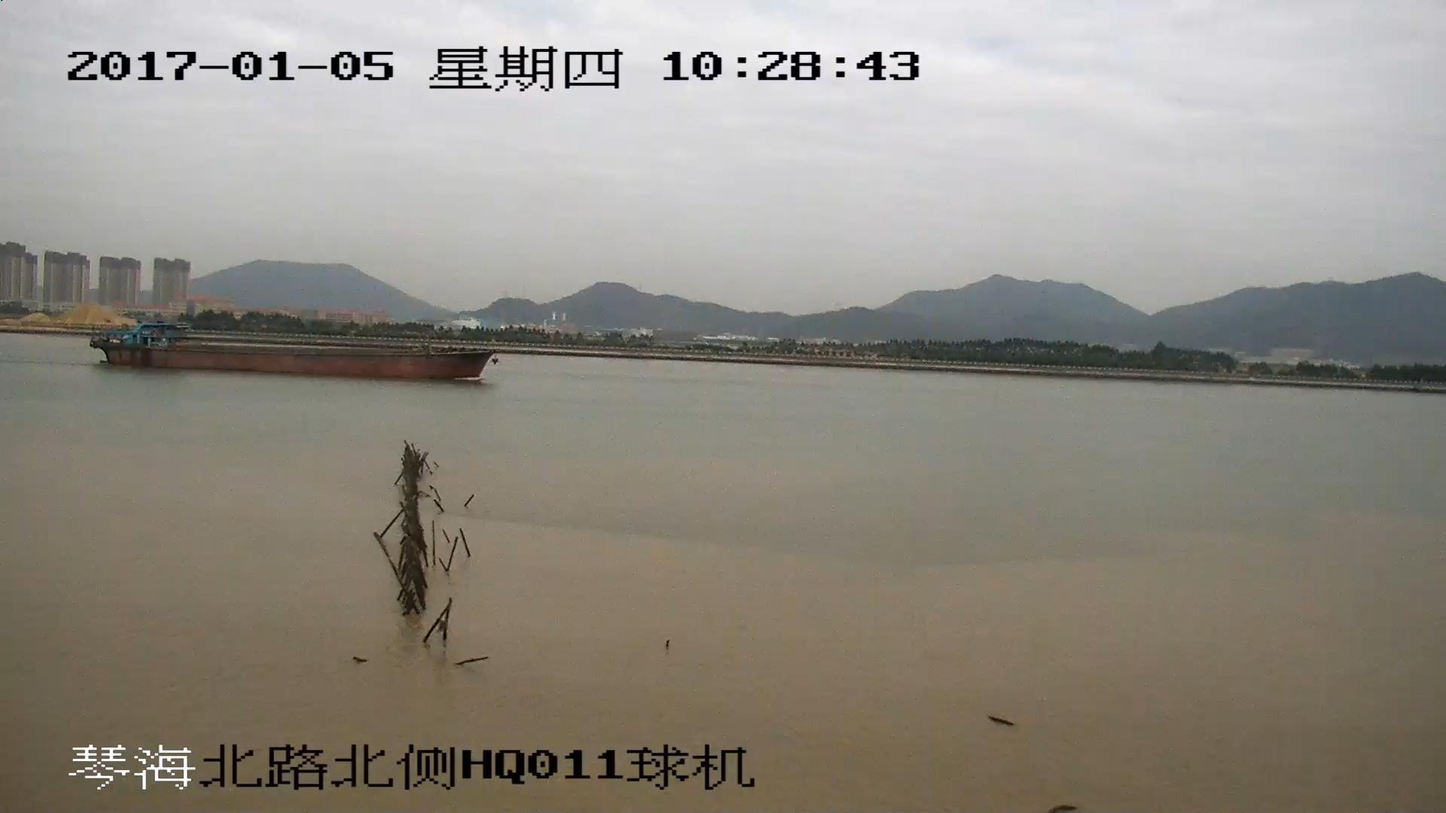bulk cargo carrier: (90, 321, 498, 381)
